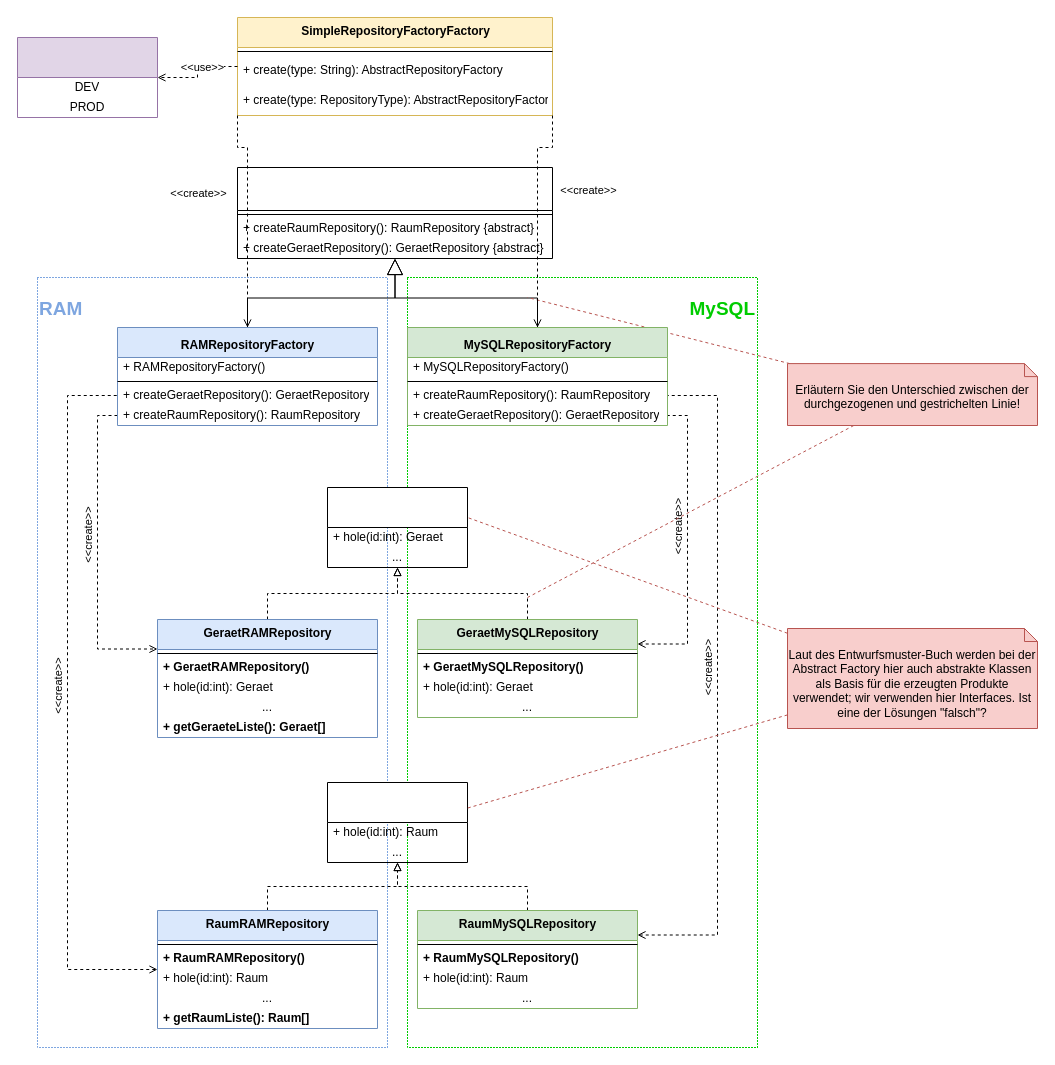
This 1055x1065 diagram has some shape labels left out. Each missing label, with the box of its shape:
<<enumeration>> RepositoryType: (16, 36, 158, 118)
<<interface>> GeraetRepository: (326, 486, 468, 568)
<<interface>> RaumRepository: (326, 782, 468, 862)
Abstract Repository Factory {abstract}: (236, 166, 552, 258)
